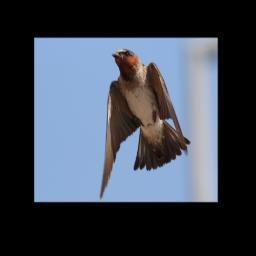Swallow: (100, 48, 190, 200)
